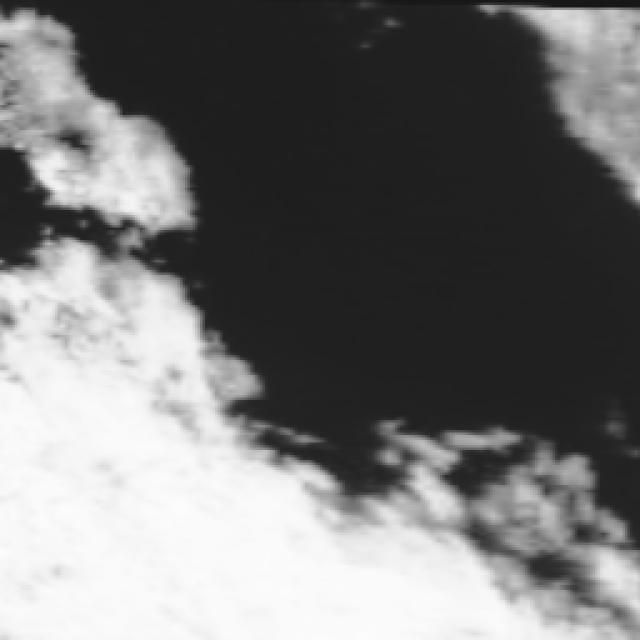CB: (1, 466, 278, 640), (250, 541, 452, 640)
